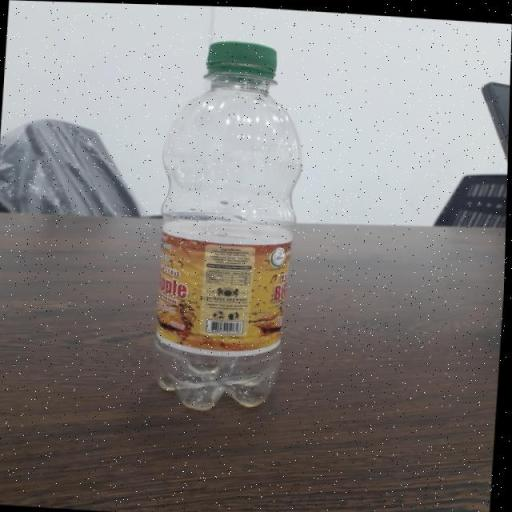plastic: (144, 34, 313, 416)
